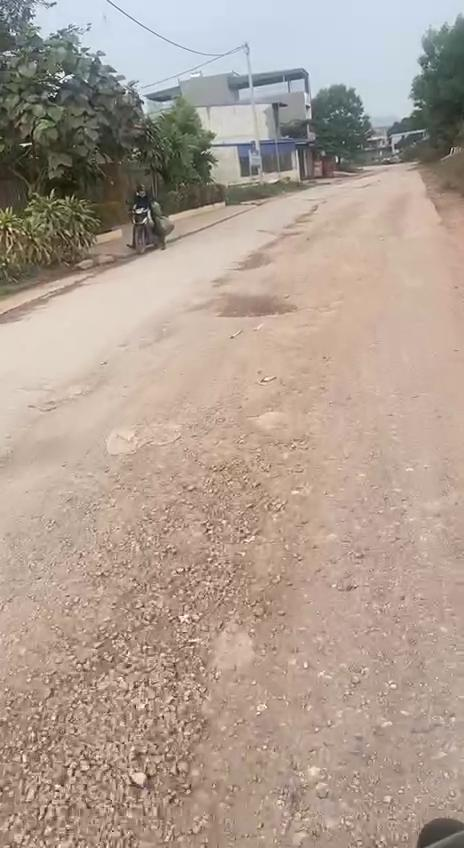pothole: (35, 368, 110, 418), (200, 294, 298, 320)
